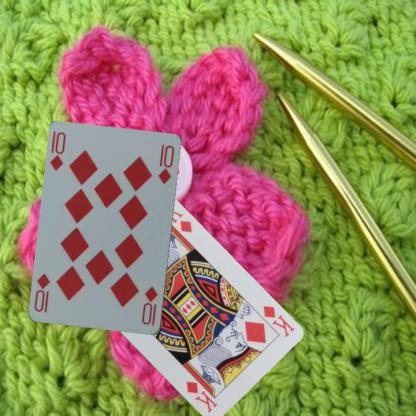10d: (140, 284, 160, 327), (48, 129, 68, 172)
Kd: (260, 303, 296, 338)
